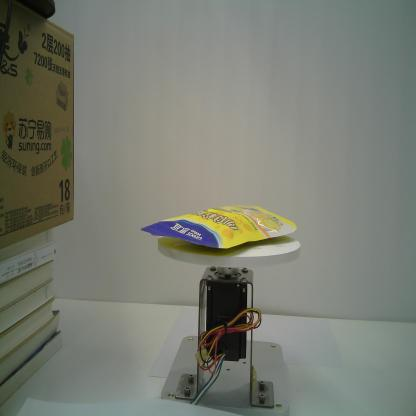Dried Fruit: (140, 203, 298, 250)
